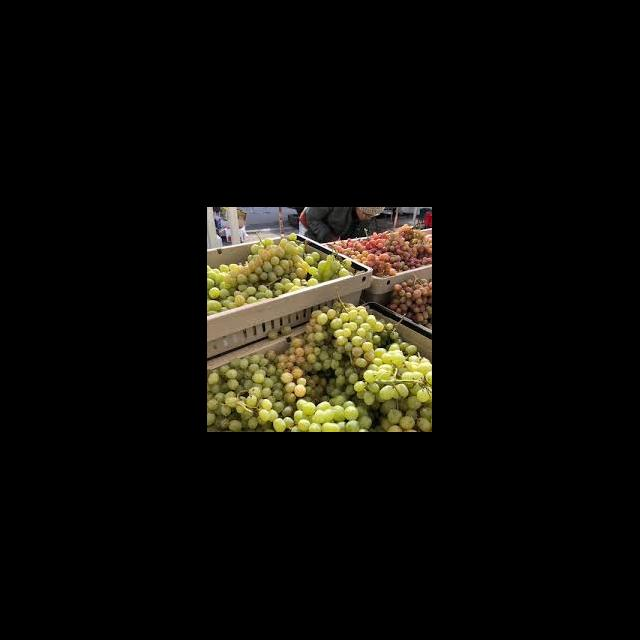grape: (208, 232, 356, 318)
